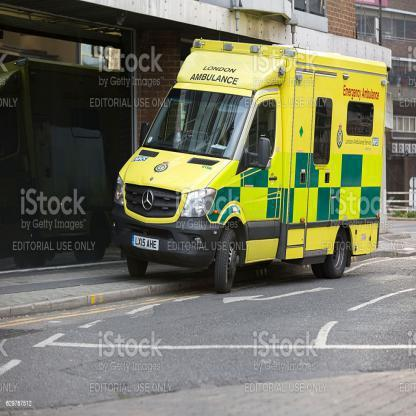Ambulance - v1 Ambulance last generate: (114, 45, 395, 287)
